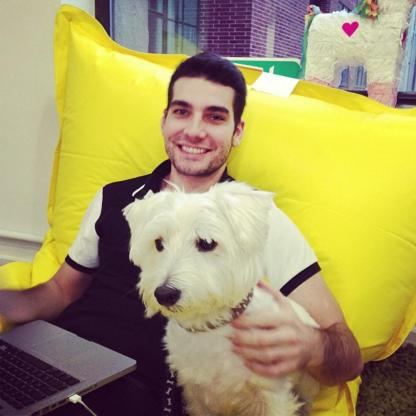board: (0, 316, 137, 416)
